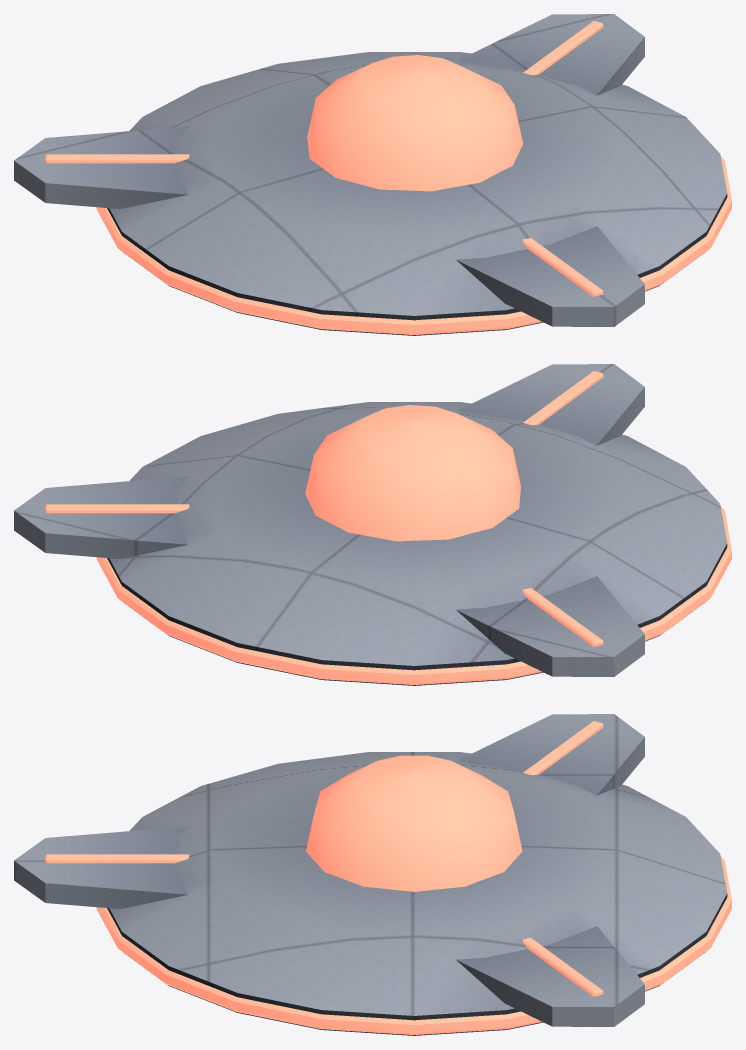
Rendered from R4D_ExplosiveTrap_LOD1.glb.
3 renders of one model, top to bottom at view 1: azimuth 30°, elevation 25°; view 2: azimuth 150°, elevation 25°; view 3: azimuth 270°, elevation 25°, orthographic.
Visible parts, largest first — view 1: R4D_ExplosiveTrap_LOD1; view 2: R4D_ExplosiveTrap_LOD1; view 3: R4D_ExplosiveTrap_LOD1.
Boxes of the visible parts, <box> form: R4D_ExplosiveTrap_LOD1: <box>14,14,731,335</box>; R4D_ExplosiveTrap_LOD1: <box>14,364,731,685</box>; R4D_ExplosiveTrap_LOD1: <box>14,714,731,1035</box>.
Bounding box in the file's own units: 0.4417 × 0.105 × 0.4574.
4 materials, 3 textured.
